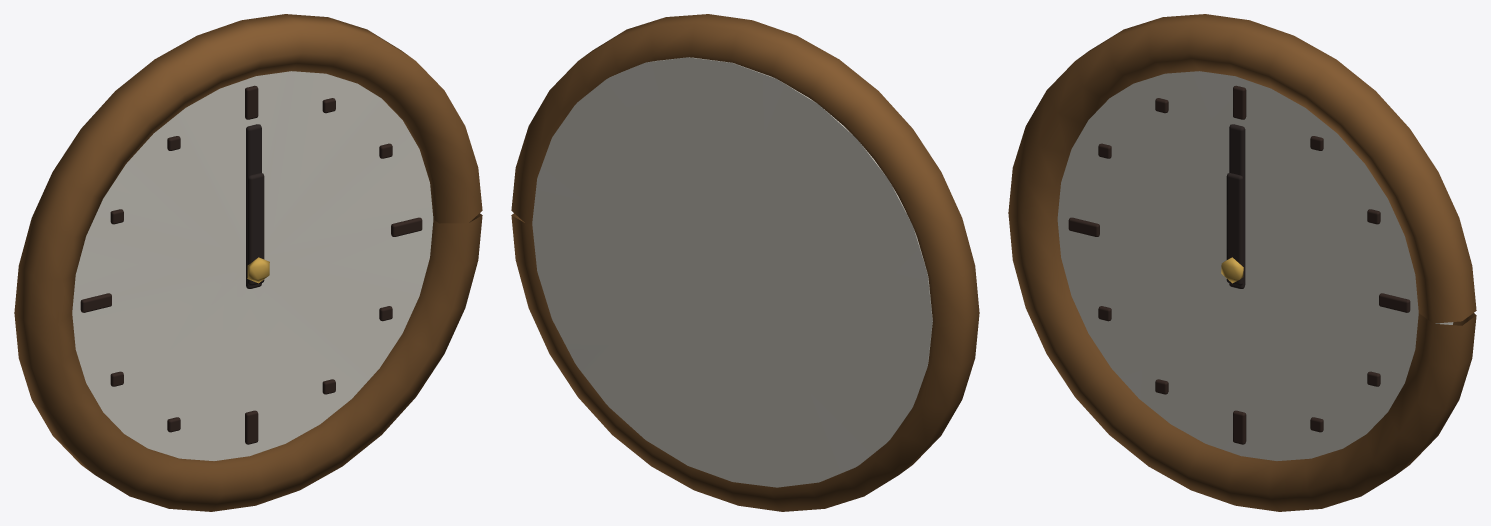
File: furn_clock_wall.glb
3 renders of one model, left to right at view 1: azimuth 30°, elevation 25°; view 2: azimuth 150°, elevation 25°; view 3: azimuth 330°, elevation 25°, orthographic.
Parts seen in each view (by area): view 1: furn_clock_wall_main, furn_clock_wall_hour, furn_clock_wall_minute; view 2: furn_clock_wall_main; view 3: furn_clock_wall_main, furn_clock_wall_hour, furn_clock_wall_minute.
Boxes of the visible parts, left/top/right/bottom form: furn_clock_wall_main: left=14, top=14, right=482, bottom=511; furn_clock_wall_hour: left=247, top=173, right=264, bottom=285; furn_clock_wall_minute: left=246, top=124, right=261, bottom=288; furn_clock_wall_main: left=511, top=14, right=979, bottom=511; furn_clock_wall_main: left=1008, top=14, right=1476, bottom=511; furn_clock_wall_hour: left=1226, top=173, right=1243, bottom=285; furn_clock_wall_minute: left=1229, top=124, right=1245, bottom=288.
Size of the model in its own units: 0.9064 by 0.9066 by 0.1.
